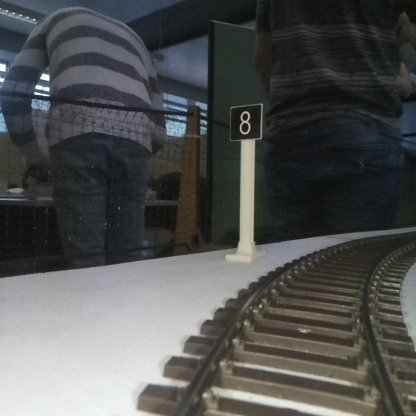black-info-8: (230, 103, 261, 259)
